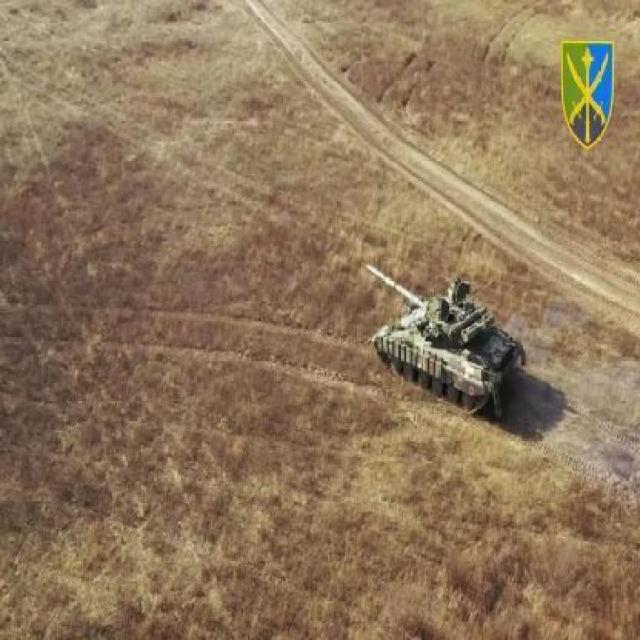Tanks: (364, 262, 530, 424)
